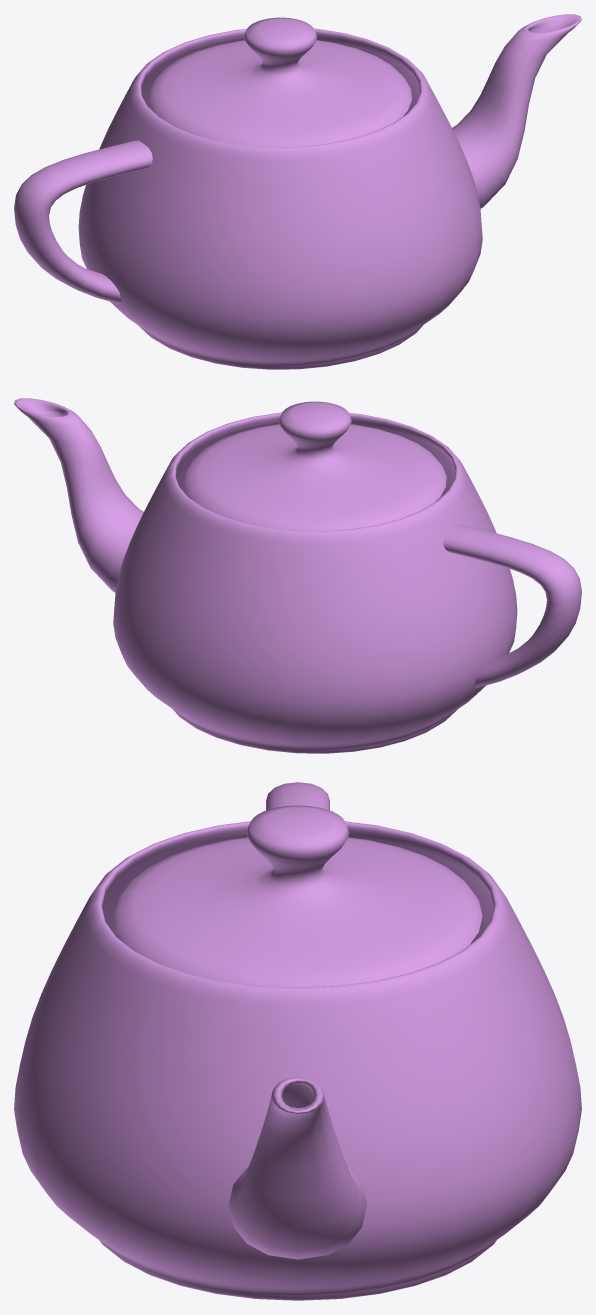
The model's file is teapot.obj.
3 views of the same model, one above another, from view 1: azimuth 30°, elevation 25°; view 2: azimuth 150°, elevation 25°; view 3: azimuth 270°, elevation 25° (orthographic). The views are drawn at different scales.
Parts seen in each view (by area): view 1: Teapot001; view 2: Teapot001; view 3: Teapot001.
Part boxes in pixels (box(x1,y1,x2,y2)): Teapot001: box(14, 14, 581, 369); Teapot001: box(14, 398, 581, 753); Teapot001: box(14, 782, 581, 1300).
Size of the model in its own units: 56.95 by 27.89 by 35.41.
